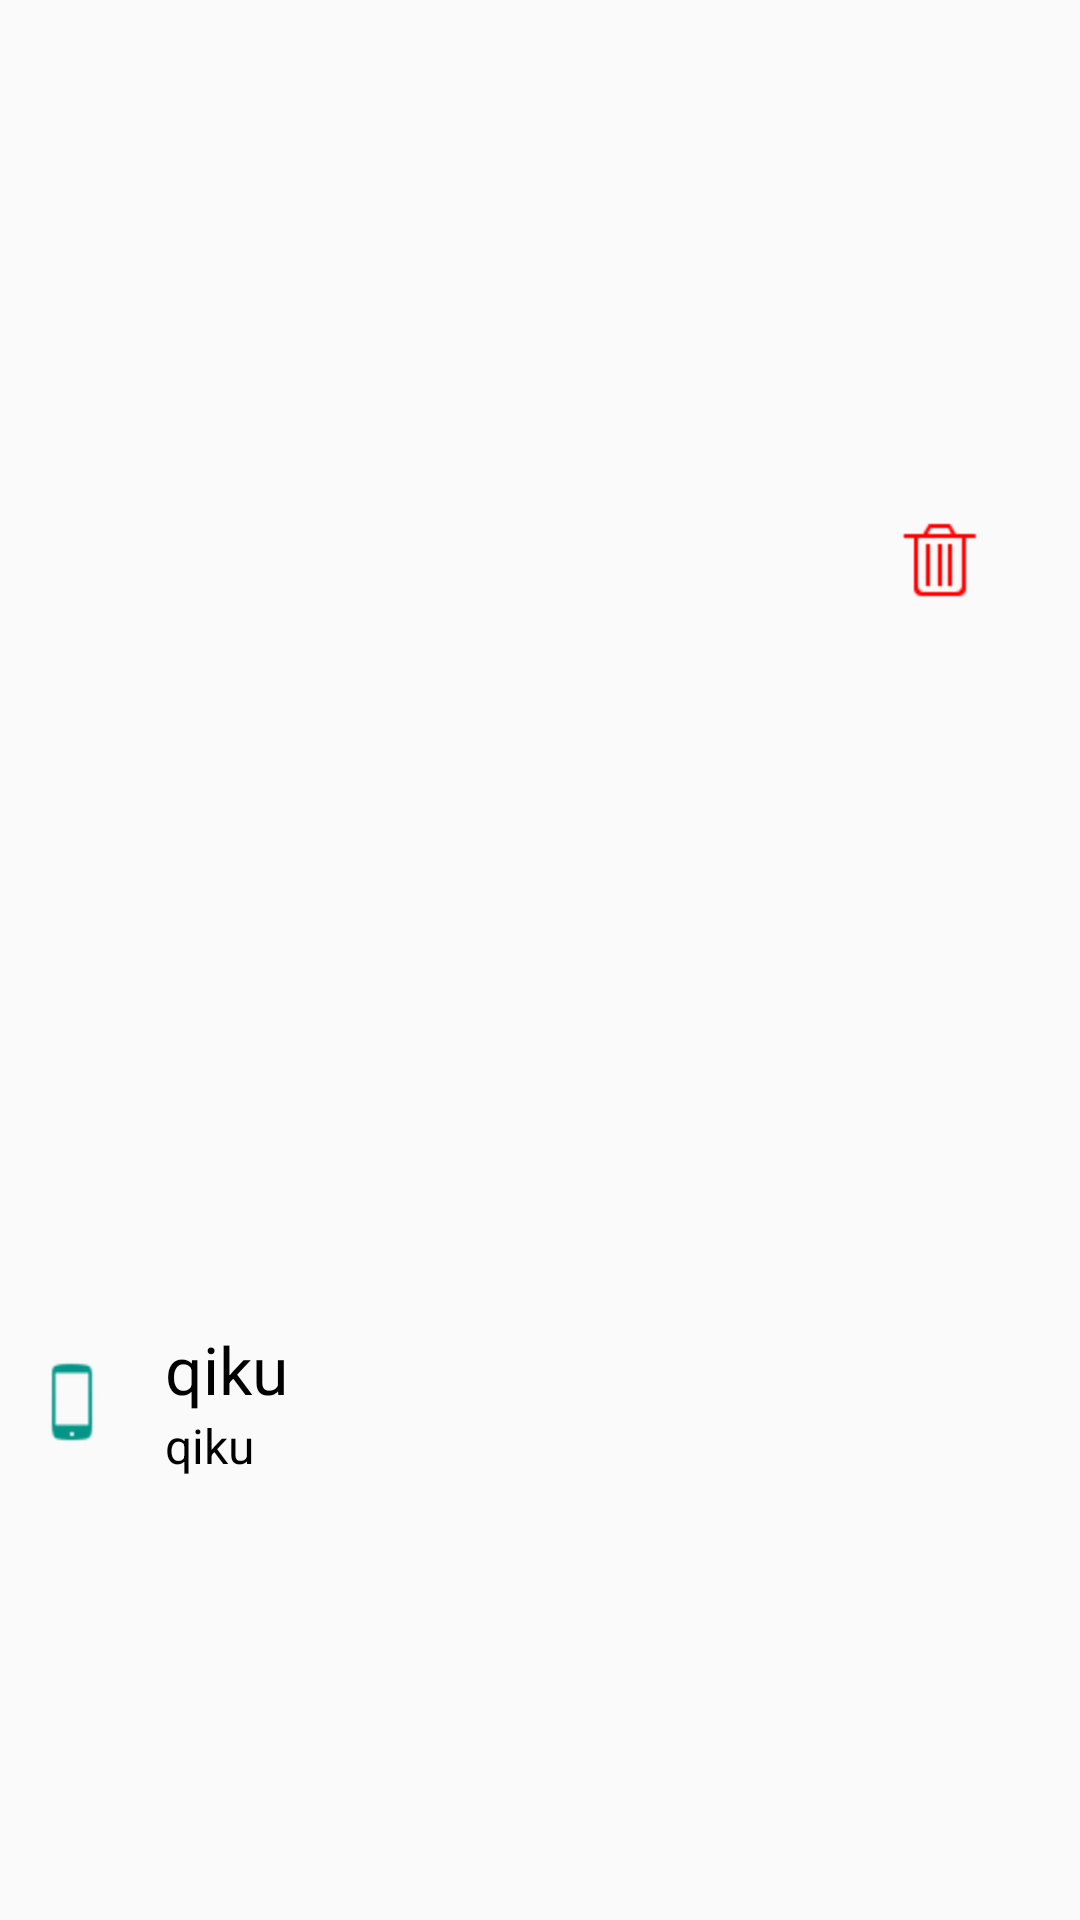

Icon bounding boxes for this 1080*1920 phone screenshot, format (x1, y1, x2, y2):
delete: (903, 523, 977, 597)
type phone: (51, 1363, 93, 1441)
